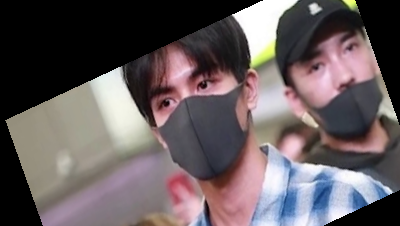mask_weared_incorrect: (265, 2, 394, 144)
